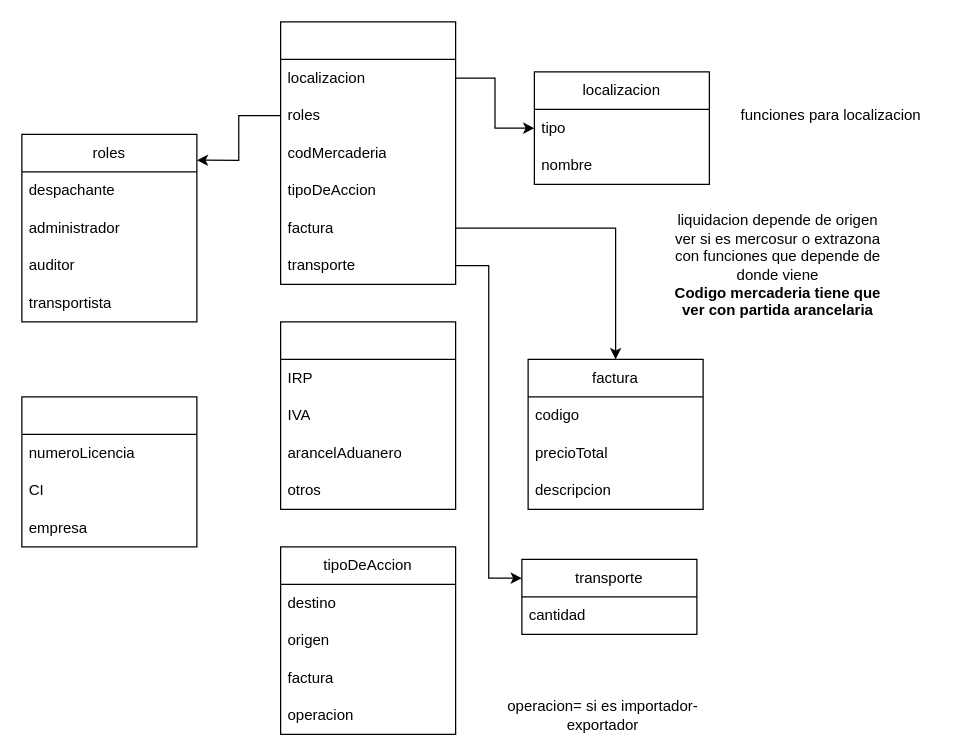
Image size: 963x756. Some labels were removed from this diagram. Here are the shapes that lost their labels. From the top down, the box of each, then its label:
(279, 21, 456, 284): despachoAduanero
(279, 321, 456, 509): liquidacion
(21, 396, 197, 547): datosPersonales
